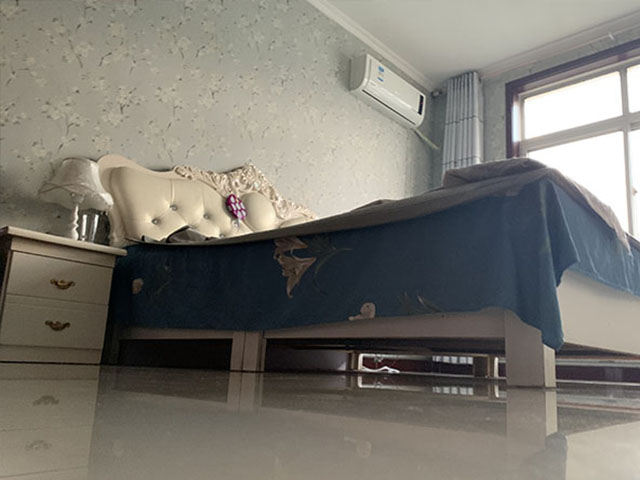bed: (96, 152, 640, 391)
cabinet: (1, 224, 130, 366)
